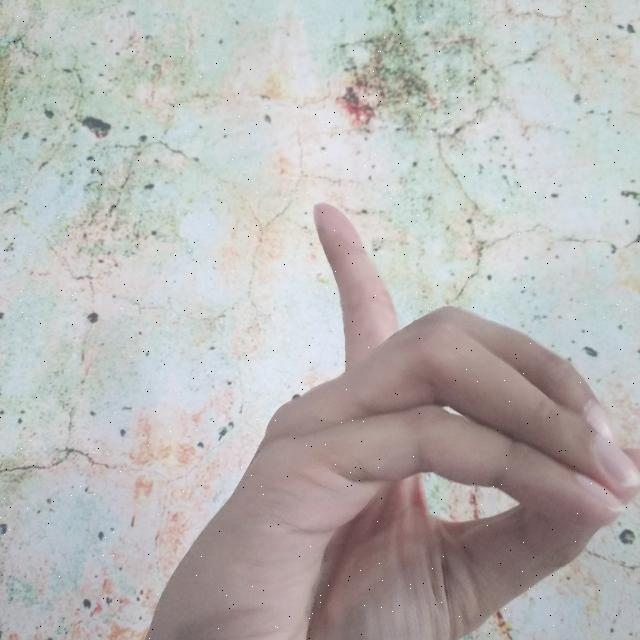D: (152, 199, 640, 639)
